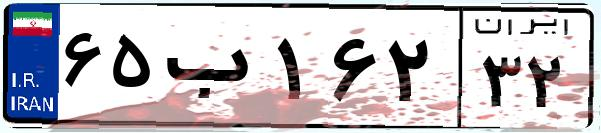1: (270, 28, 330, 110)
2: (385, 28, 445, 110), (525, 38, 570, 115)
3: (475, 38, 525, 113)
5: (110, 28, 158, 98)
6: (330, 28, 385, 110), (57, 26, 110, 100)
ب: (158, 20, 270, 120)
